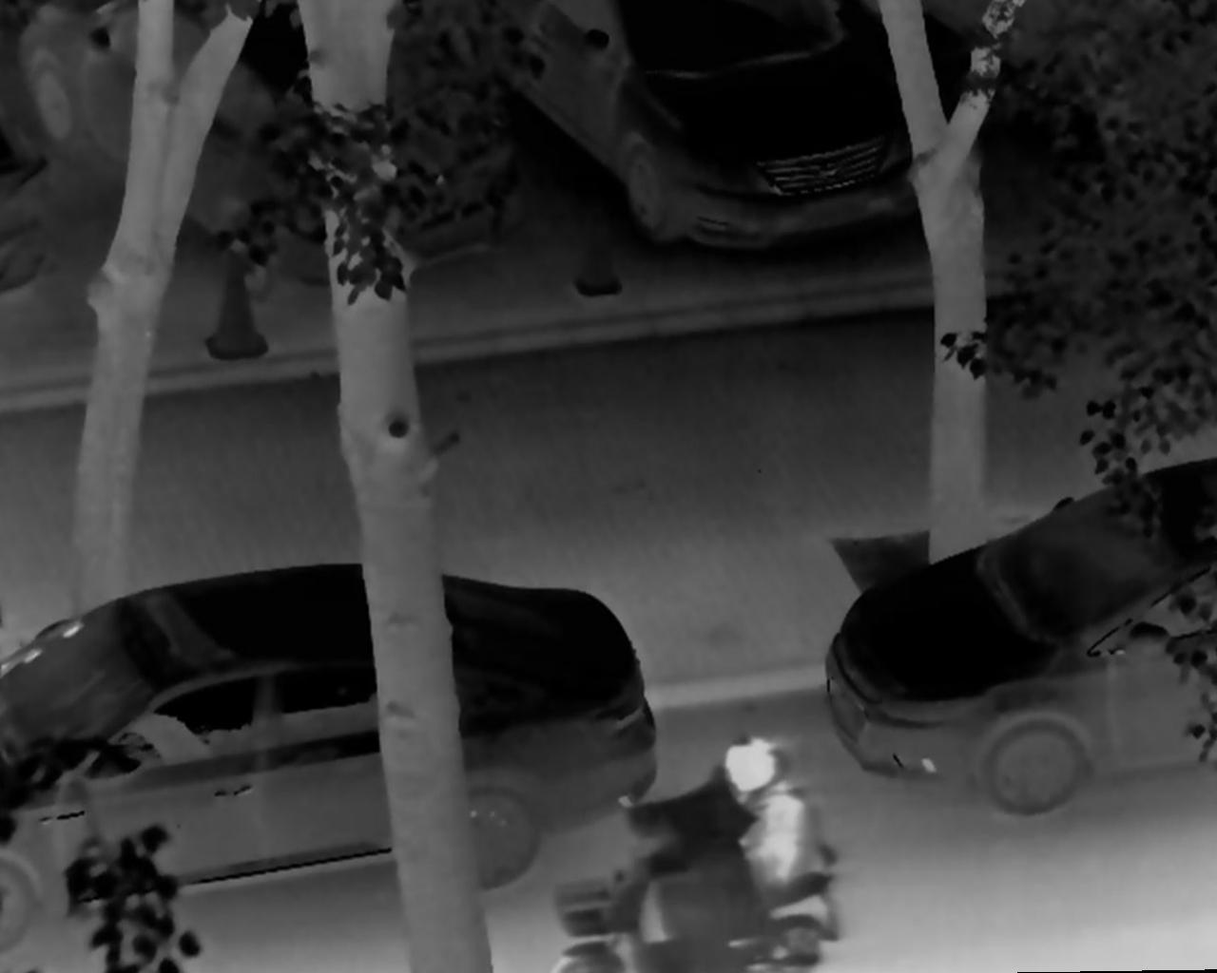person: (702, 721, 809, 896)
